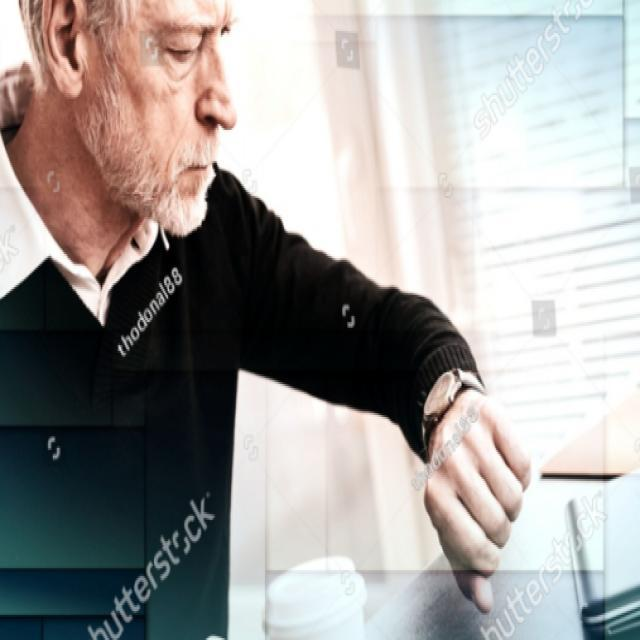Watch: (413, 362, 481, 450)
